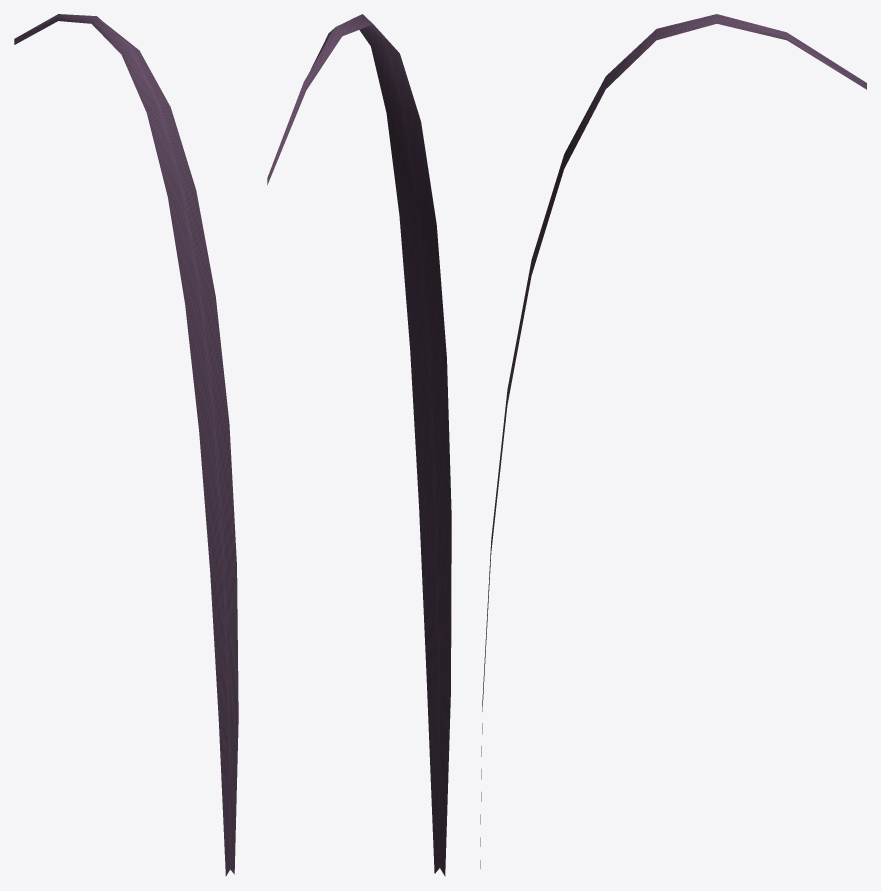
File: single_blade_01.glb
The picture shows the model from 3 angles, left to right: view 1: azimuth 30°, elevation 25°; view 2: azimuth 150°, elevation 25°; view 3: azimuth 270°, elevation 25°; orthographic projection. The views are drawn at different scales.
Visible parts, largest first — view 1: export; view 2: export; view 3: export.
Boxes of the visible parts, x1,y1,x2,y2 form: export: (14,14,238,875); export: (267,14,451,876); export: (480,14,866,868).
Bounding box in the file's own units: 0.0656 × 1.01 × 0.4166.
1 material, 1 textured.
